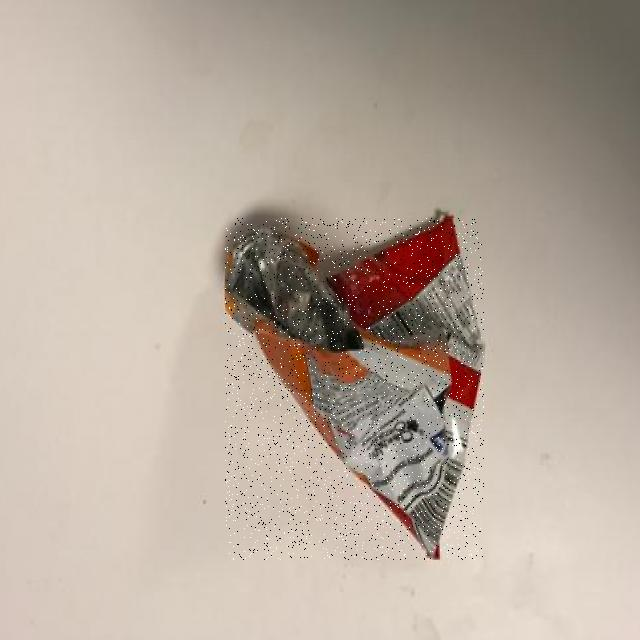wrapper: (225, 218, 484, 559)
